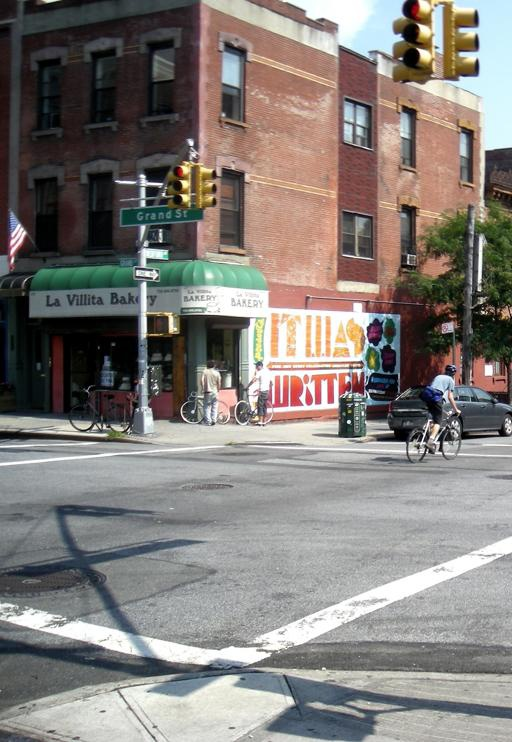non-vehicle: (402, 408, 464, 468), (67, 382, 132, 433), (177, 389, 231, 426), (233, 387, 275, 426), (120, 391, 152, 433)
